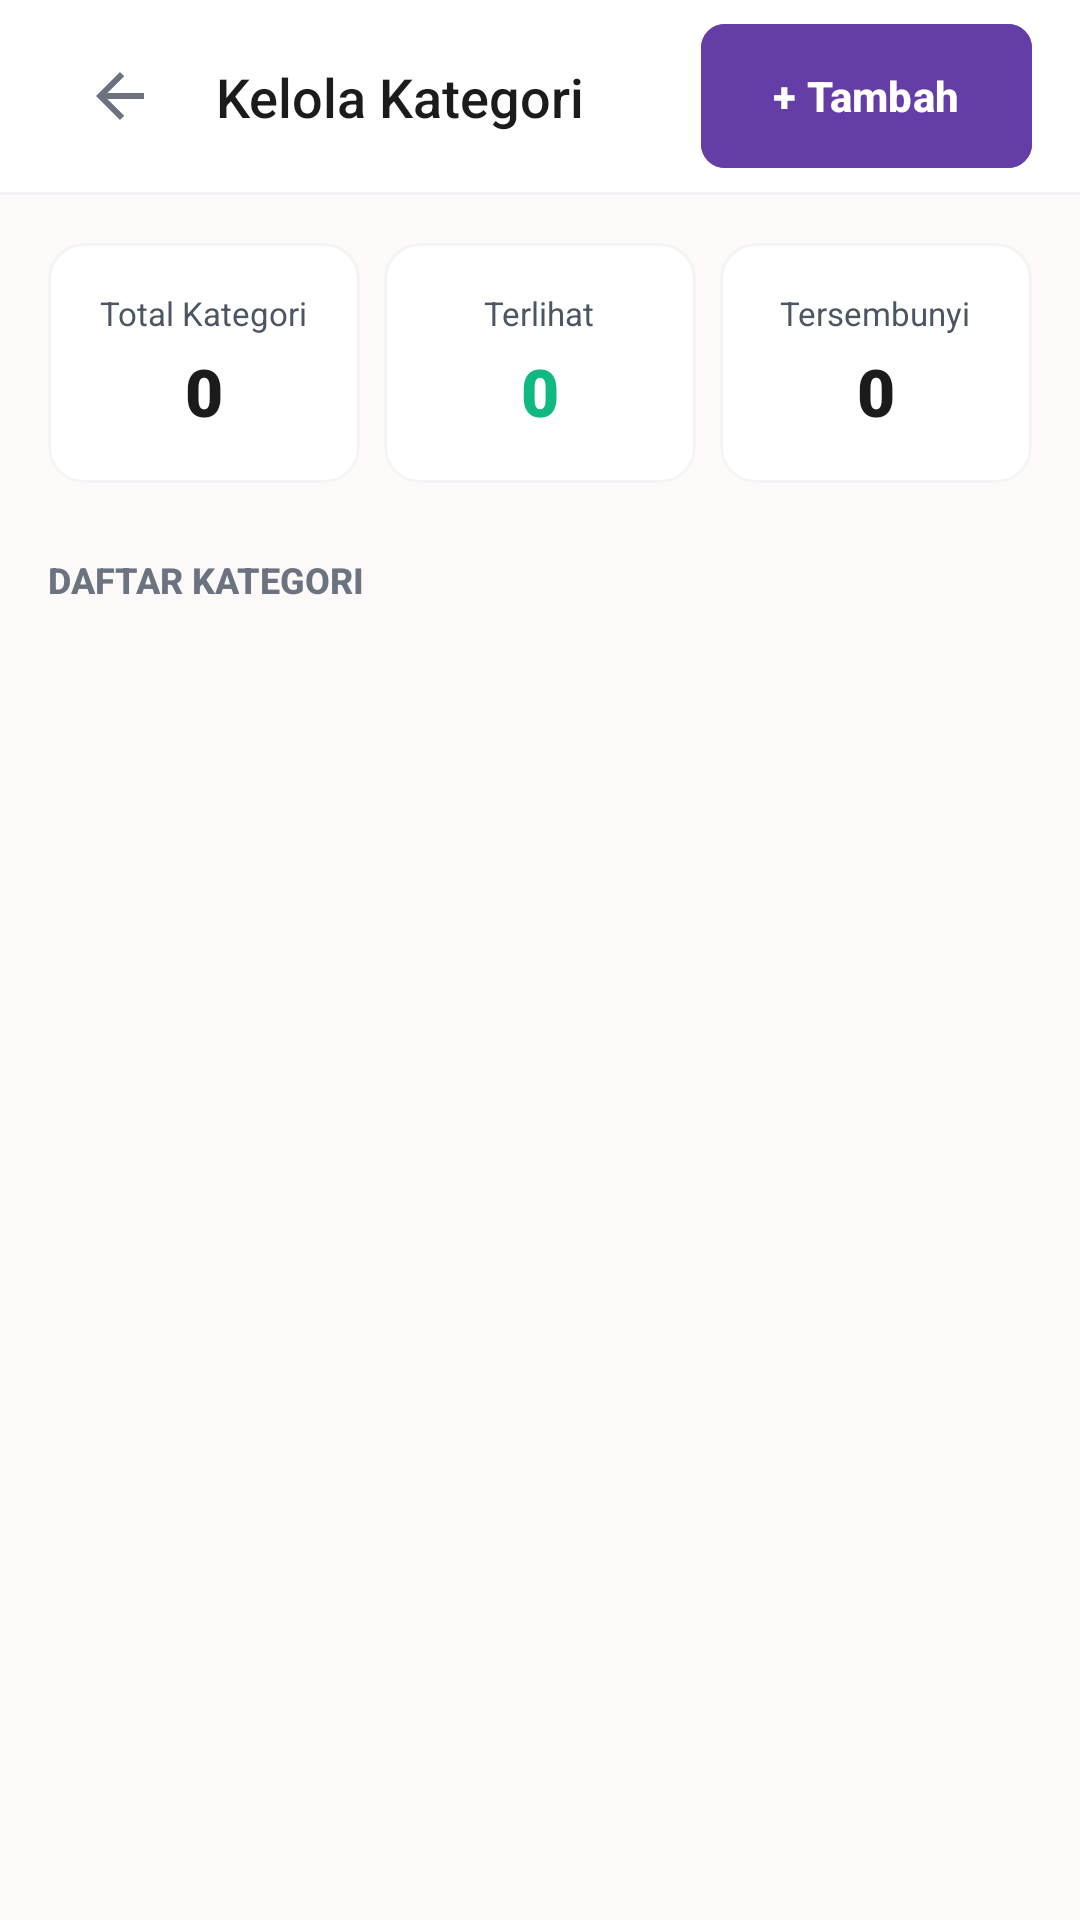

Icon click points for this 1080w x 1920h phone screenshot, format (x,y):
Kembali: (120,96)
